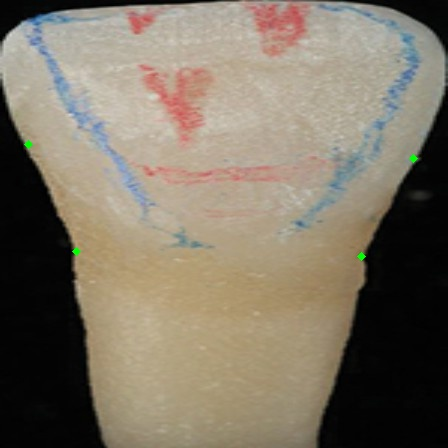coin_1: (361, 256, 381, 276)
coin_2: (413, 158, 433, 178)
coin_3: (76, 251, 96, 271)
coin_4: (28, 144, 48, 164)
